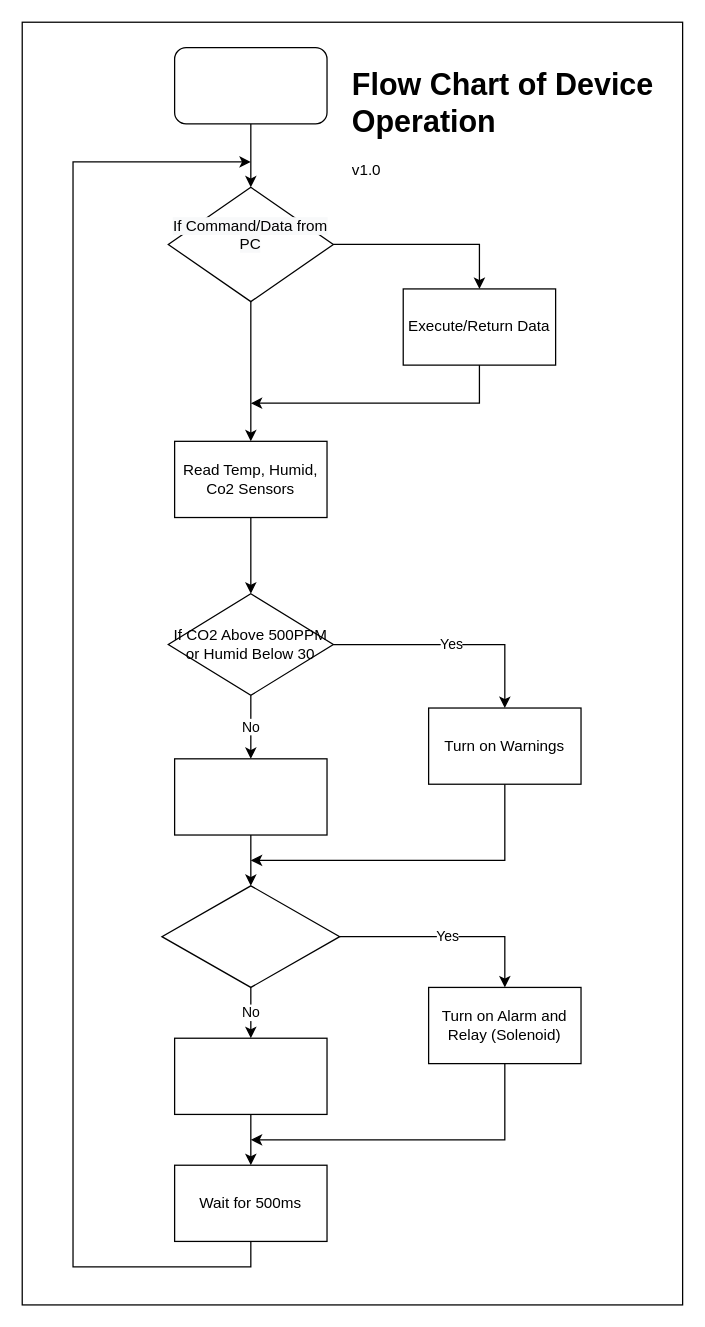
Some shapes in this 705 by 1327 pixel diagram are drawn without their labels. The shapes that lost their labels are listed below. From the top down, each one's box as (x1, y1, x2, y2) in pixels, then its label:
(173, 46, 327, 124): Start
(173, 758, 327, 835): Turn off Warnings
(161, 885, 340, 987): If Temp Above 85
(173, 1037, 327, 1114): Turn off Alarm and Relay (Solenoid)
